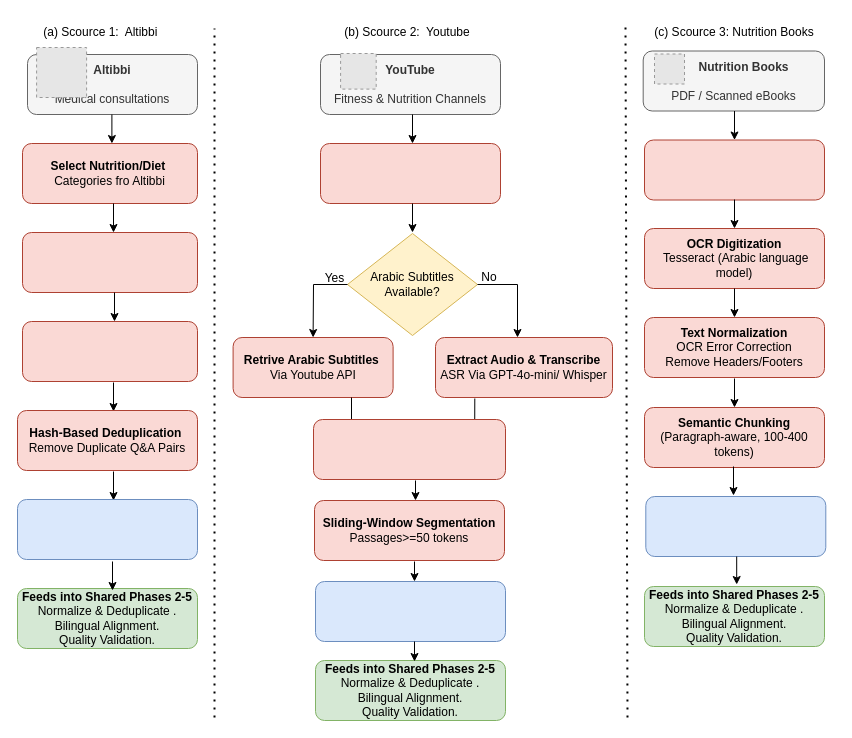
Some shapes in this 852 by 738 pixel diagram are drawn without their labels. Grey dashed boxes stand in for pictures. The centre of each missing label's shape, as x and y in pixels:
"Arabic Transcript Normalized" goes at pixel 409 449.
"Filter Records Remove Nulls and Length Threshold" goes at pixel 110 351.
"Prepared Altibbi QA Corpus Input for Shared Phases 2-5" goes at pixel 107 529.
"Prepared Book Corpus Input for Shared Phases 2-5" goes at pixel 735 526.
"Prepared Transcript Corpus Input for Shared Phases 2-5" goes at pixel 410 611.
"Scrape Q&A Records Via Altibbi API / Web scraper" goes at pixel 110 262.
"Select Diet/Nutrition Videos via Youtube API" goes at pixel 410 173.
"Select eBooks(PDFs) Diet/Nutrition domain, Arabic" goes at pixel 734 169.
